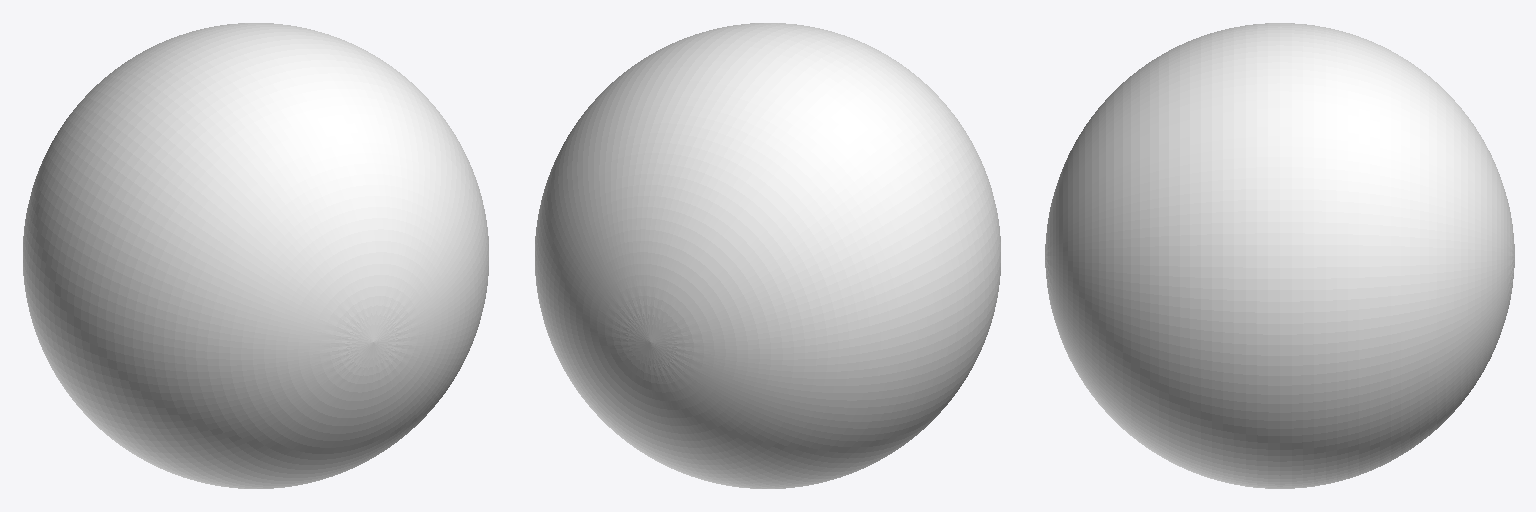
File: sun.obj
3 views of the same model, side by side, from view 1: azimuth 30°, elevation 25°; view 2: azimuth 150°, elevation 25°; view 3: azimuth 270°, elevation 25° (orthographic).
Visible parts, largest first — view 1: 13913_Sun_v2_l3; view 2: 13913_Sun_v2_l3; view 3: 13913_Sun_v2_l3.
Part boxes in pixels (x1,y1,x2,y2): 13913_Sun_v2_l3: (23,23,488,488); 13913_Sun_v2_l3: (535,23,1000,488); 13913_Sun_v2_l3: (1045,23,1514,488).
Bounding box in the file's own units: 97 × 97 × 98.02.